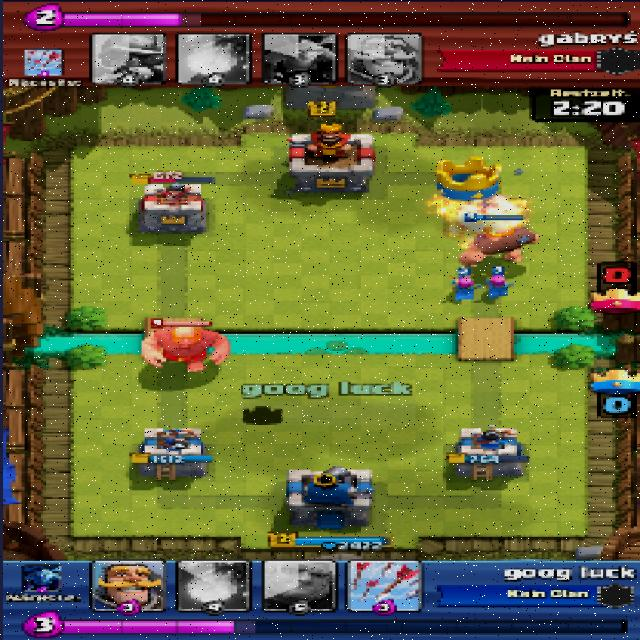Enemy-Giant: (143, 326, 231, 372)
Player-Archer: (449, 277, 480, 300), (486, 275, 513, 298)
Player-Giant: (463, 222, 538, 263)
